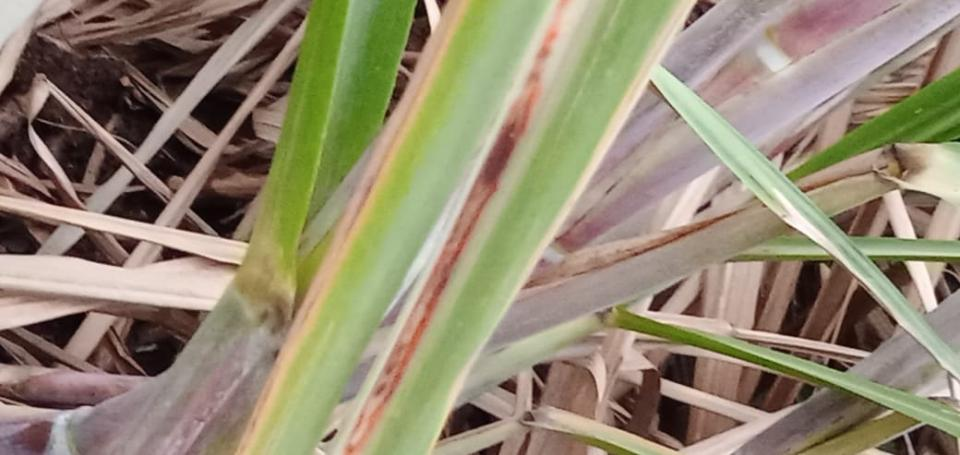RedRot: (344, 1, 567, 453)
Yellow: (426, 0, 698, 454), (234, 0, 469, 454)
